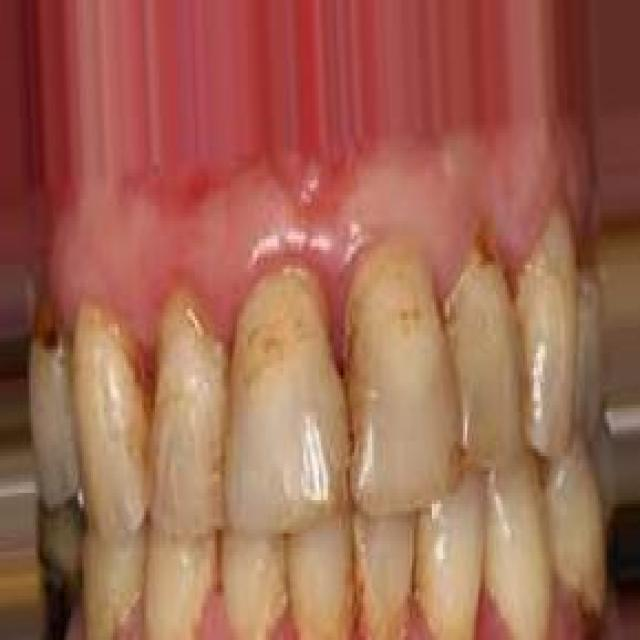caries: (22, 283, 72, 370)
